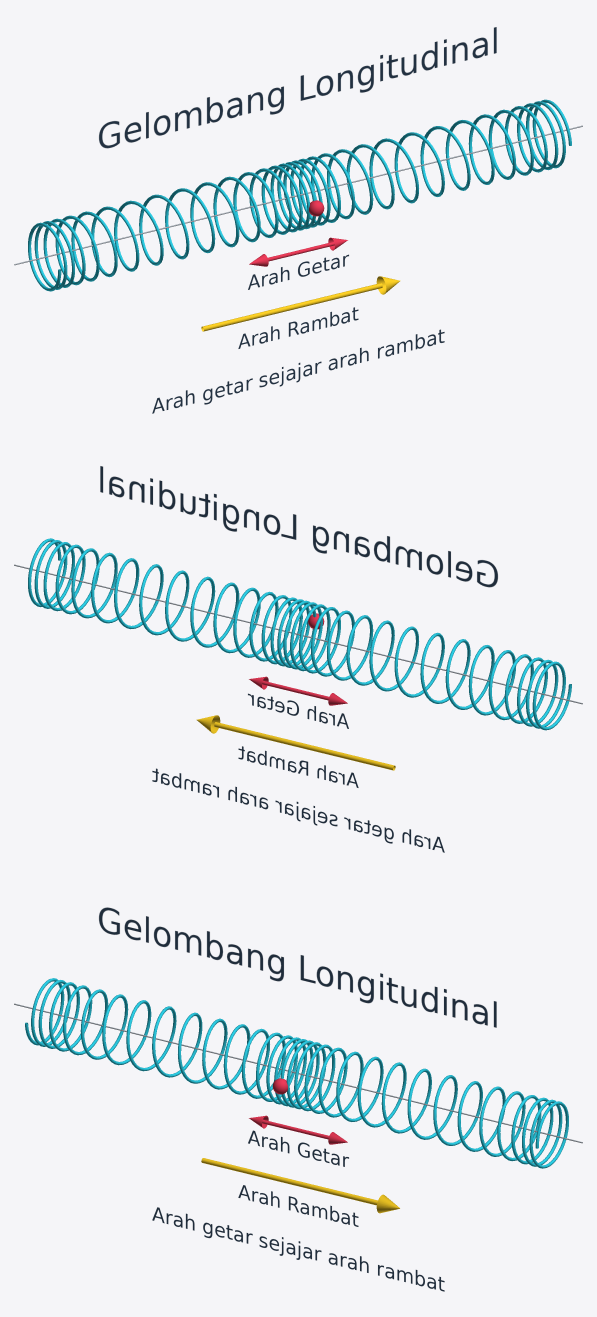
The model's file is gelombang-longitudinal-animasi.glb.
3 renders of one model, top to bottom at view 1: azimuth 30°, elevation 25°; view 2: azimuth 150°, elevation 25°; view 3: azimuth 330°, elevation 25°, orthographic.
Visible parts, largest first — view 1: Pegas longitudinal, Gelombang Longitudinal, Arah getar sejajar arah rambat, Batang arah rambat, Sumbu pegas, Arah Rambat, Arah Getar; view 2: Pegas longitudinal, Gelombang Longitudinal, Arah getar sejajar arah rambat, Batang arah rambat, Sumbu pegas, Arah Rambat, Arah Getar; view 3: Pegas longitudinal, Gelombang Longitudinal, Arah getar sejajar arah rambat, Batang arah rambat, Sumbu pegas, Arah Rambat, Arah Getar.
Boxes of the visible parts, bbox=[...] form: Pegas longitudinal: bbox=[28, 99, 571, 291]; Gelombang Longitudinal: bbox=[99, 27, 496, 148]; Arah getar sejajar arah rambat: bbox=[152, 329, 444, 413]; Batang arah rambat: bbox=[201, 283, 382, 331]; Sumbu pegas: bbox=[14, 125, 582, 265]; Arah Rambat: bbox=[238, 307, 358, 348]; Arah Getar: bbox=[248, 254, 348, 289]; Pegas longitudinal: bbox=[28, 538, 571, 730]; Gelombang Longitudinal: bbox=[100, 466, 497, 587]; Arah getar sejajar arah rambat: bbox=[152, 768, 444, 852]; Batang arah rambat: bbox=[214, 722, 395, 770]; Sumbu pegas: bbox=[14, 564, 582, 704]; Arah Rambat: bbox=[238, 746, 358, 787]; Arah Getar: bbox=[248, 693, 348, 728]; Pegas longitudinal: bbox=[25, 978, 568, 1168]; Gelombang Longitudinal: bbox=[99, 907, 496, 1027]; Arah getar sejajar arah rambat: bbox=[152, 1207, 444, 1291]; Batang arah rambat: bbox=[201, 1158, 377, 1205]; Sumbu pegas: bbox=[14, 1003, 582, 1143]; Arah Rambat: bbox=[238, 1185, 358, 1226]; Arah Getar: bbox=[248, 1130, 348, 1166].
Bounding box in the file's own units: 8.9 × 4.83 × 1.06.
Materials: 8 (4 with a texture image).
